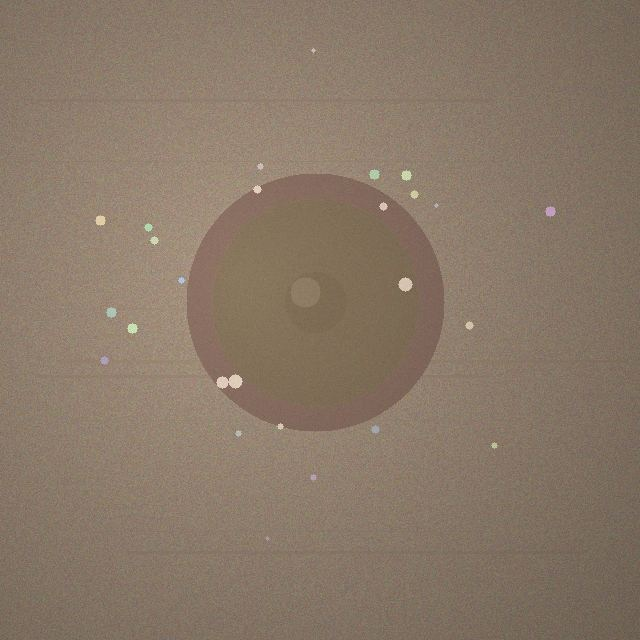overburn: (186, 173, 444, 431)
